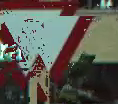Give way: (0, 4, 86, 98)
